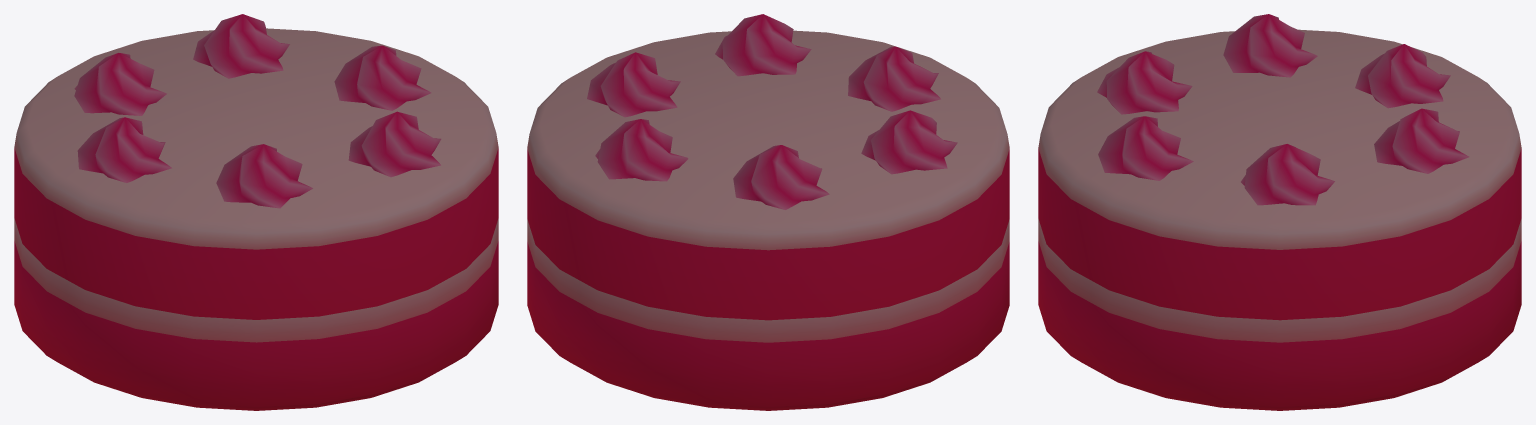
Rendered from cake.glb.
3 renders of one model, left to right at view 1: azimuth 30°, elevation 25°; view 2: azimuth 150°, elevation 25°; view 3: azimuth 270°, elevation 25°, orthographic.
Visible parts, largest first — view 1: cake; view 2: cake; view 3: cake.
Boxes of the visible parts, left/top/right/bottom form: cake: left=14, top=14, right=498, bottom=410; cake: left=527, top=14, right=1009, bottom=410; cake: left=1038, top=14, right=1521, bottom=410.
Bounding box in the file's own units: 0.4685 × 0.2499 × 0.4685.
Materials: 1 (1 with a texture image).
